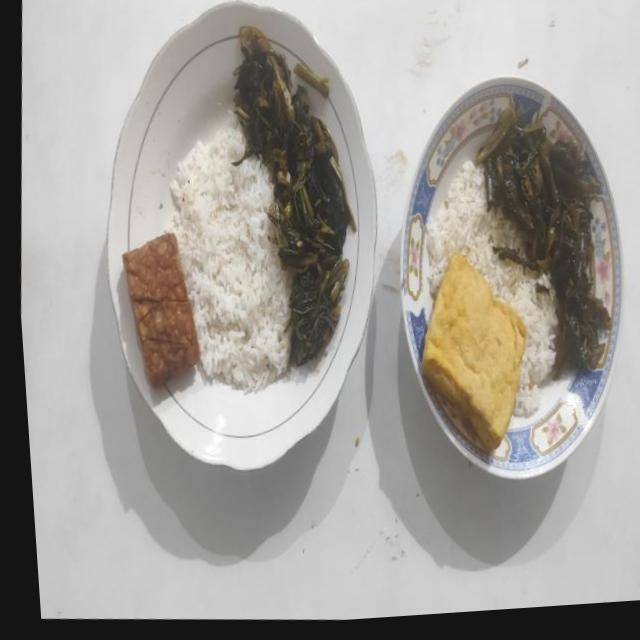nasi_putih: (426, 160, 556, 414), (164, 132, 290, 390)
tahu_goreng: (422, 252, 526, 448)
tempe_goreng: (123, 233, 200, 387)
tumis_kangkung: (232, 26, 356, 366), (476, 100, 608, 373)
